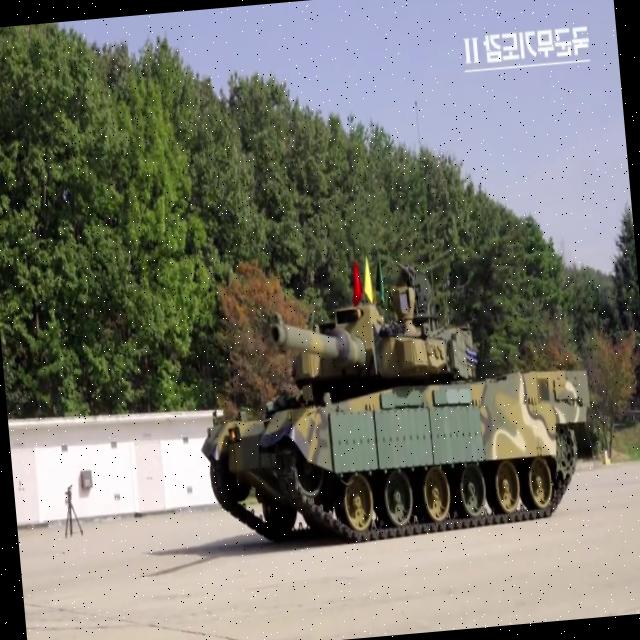korea tank: (184, 242, 604, 562)
